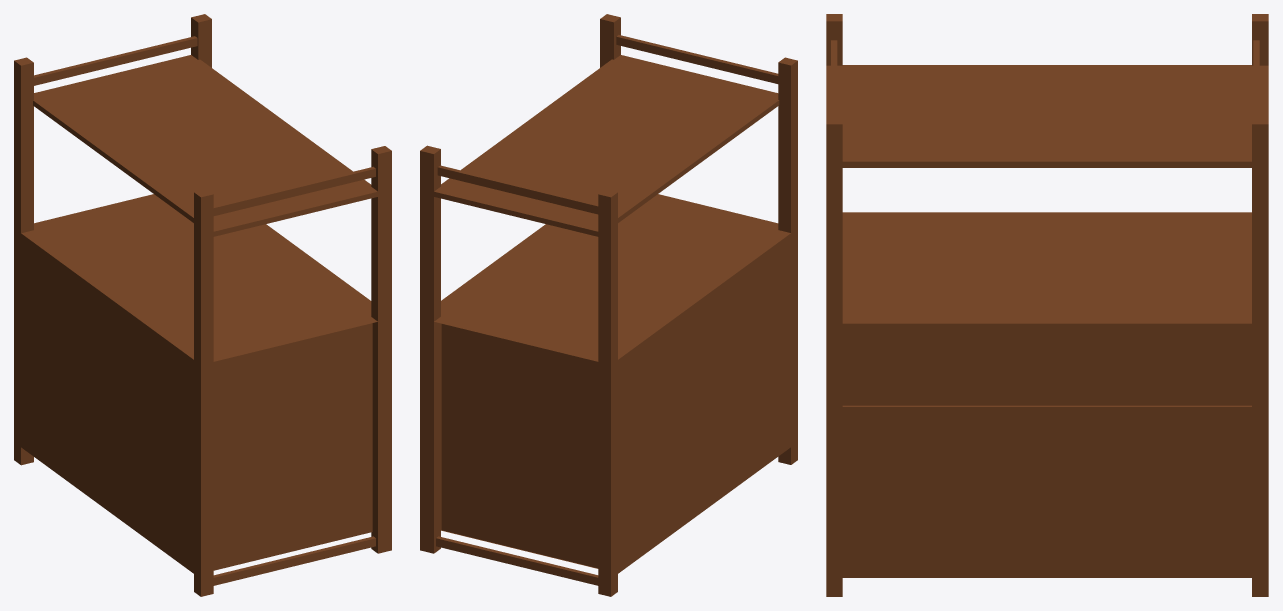
File: MEUBLE.gltf
The picture shows the model from 3 angles, left to right: view 1: azimuth 30°, elevation 25°; view 2: azimuth 150°, elevation 25°; view 3: azimuth 270°, elevation 25°; orthographic projection. The views are drawn at different scales.
Visible parts, largest first — view 1: Commode; view 2: Commode; view 3: Commode.
Part boxes in pixels (x1,y1,x2,y2): Commode: (14,14,391,596); Commode: (420,14,797,596); Commode: (826,14,1268,596).
Size of the model in its own units: 0.3609 by 0.705 by 0.5978.
